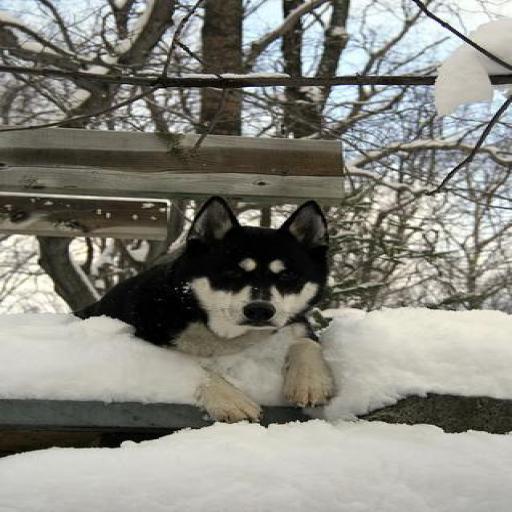dog_face: (196, 190, 340, 329)
